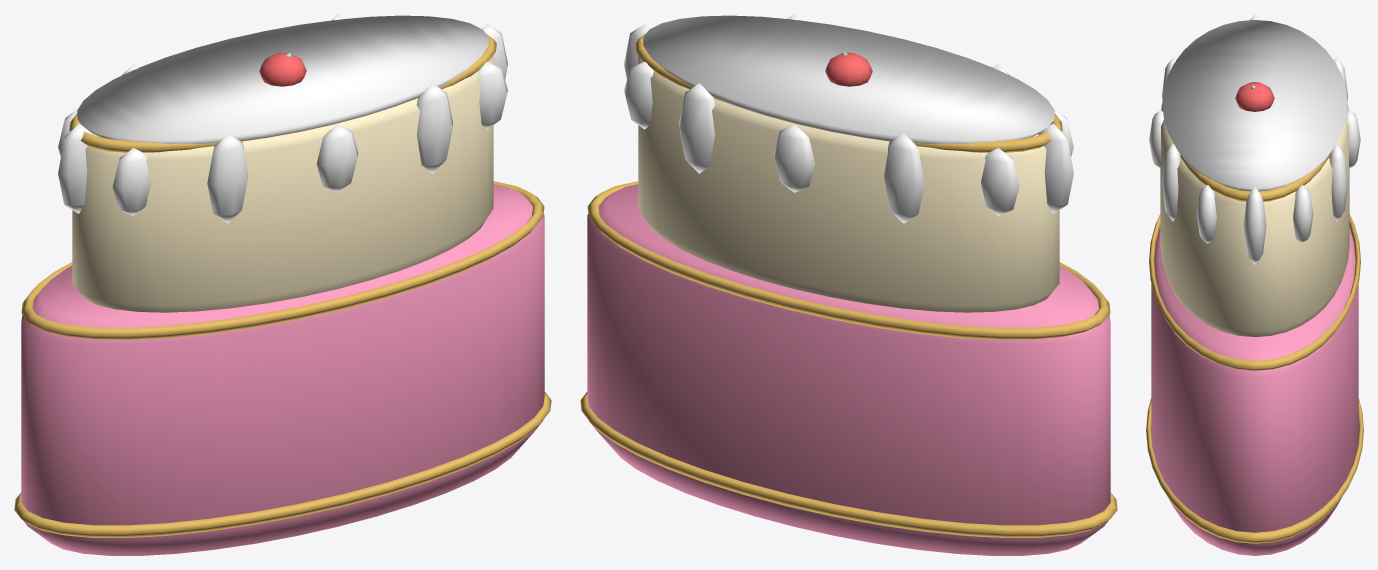
Rendered from counter_cake.glb.
The picture shows the model from 3 angles, left to right: view 1: azimuth 30°, elevation 25°; view 2: azimuth 150°, elevation 25°; view 3: azimuth 270°, elevation 25°; orthographic projection. The views are drawn at different scales.
Visible parts, largest first — view 1: Body; view 2: Body; view 3: Body.
Boxes of the visible parts, x1,y1,x2,y2 form: Body: [14, 14, 551, 555]; Body: [580, 14, 1117, 555]; Body: [1146, 14, 1363, 555].
Bounding box in the file's own units: 1.2 × 0.95 × 0.5.
6 materials, 6 textured.
